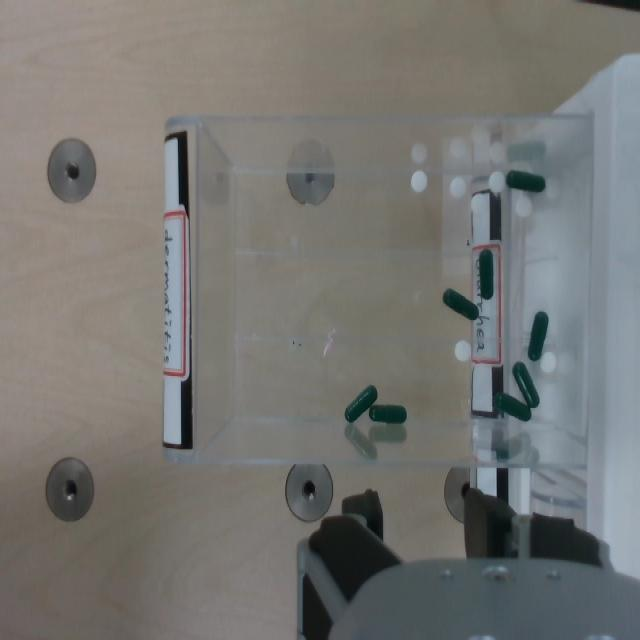ganakan_tab: (514, 195, 533, 219), (455, 338, 473, 363), (449, 177, 467, 201), (540, 350, 557, 375), (471, 192, 488, 215), (410, 171, 427, 194), (489, 170, 505, 193)
monodoxy_cap: (344, 383, 378, 424), (513, 361, 540, 409), (442, 285, 479, 320), (344, 385, 377, 423), (492, 389, 531, 421), (526, 308, 549, 360), (513, 361, 539, 407), (442, 288, 478, 320), (495, 392, 531, 420), (505, 167, 545, 192), (528, 311, 548, 360), (369, 402, 408, 425), (506, 169, 545, 192), (479, 249, 494, 300), (369, 404, 406, 424), (479, 249, 493, 299)
